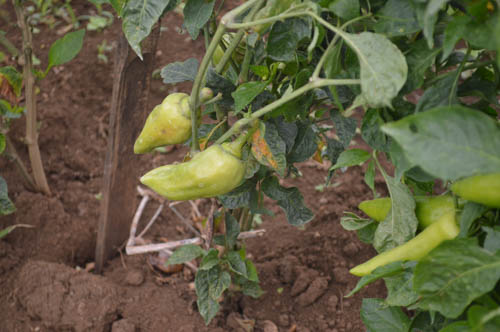ChiliPepper: (346, 219, 461, 285), (137, 148, 244, 213), (133, 93, 197, 154), (357, 195, 451, 231), (450, 179, 498, 203)
